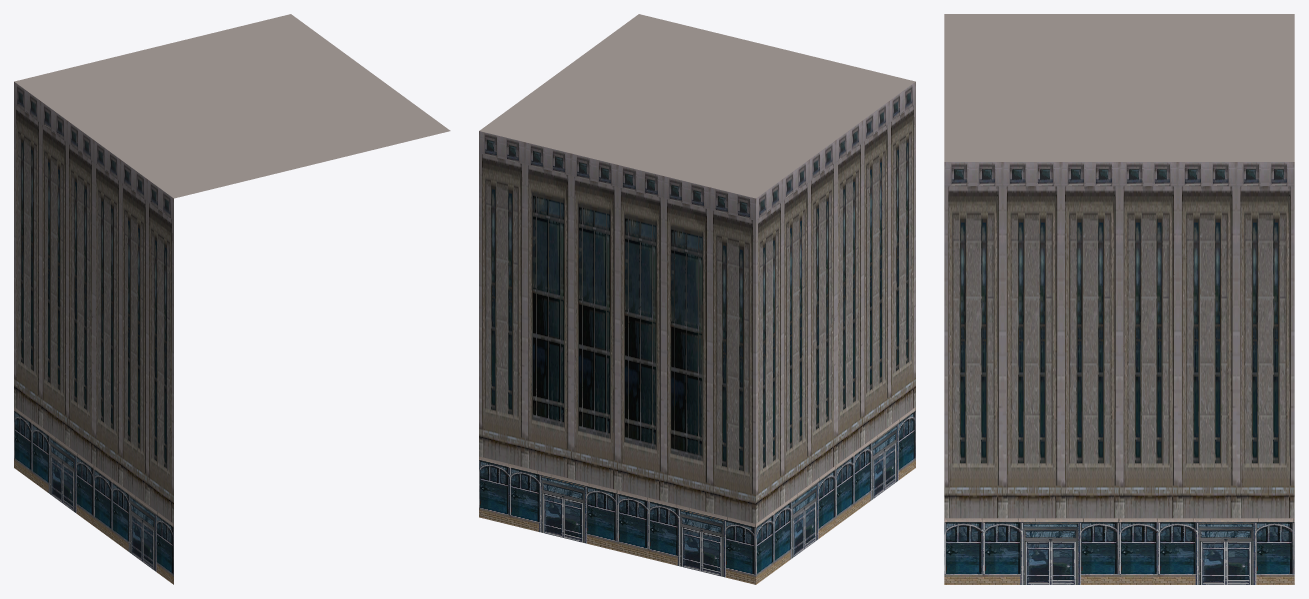
The model's file is M2Zone4_Building11A.glb.
3 renders of one model, left to right at view 1: azimuth 30°, elevation 25°; view 2: azimuth 150°, elevation 25°; view 3: azimuth 270°, elevation 25°, orthographic. The views are drawn at different scales.
Visible parts, largest first — view 1: M2ZONE4_BUILDING11A; view 2: M2ZONE4_BUILDING11A; view 3: M2ZONE4_BUILDING11A.
Boxes of the visible parts, bbox=[...] form: M2ZONE4_BUILDING11A: bbox=[14, 14, 450, 584]; M2ZONE4_BUILDING11A: bbox=[479, 14, 915, 584]; M2ZONE4_BUILDING11A: bbox=[944, 14, 1294, 584].
Size of the model in its own units: 24 by 32 by 24.
Materials: 3 (3 with a texture image).
